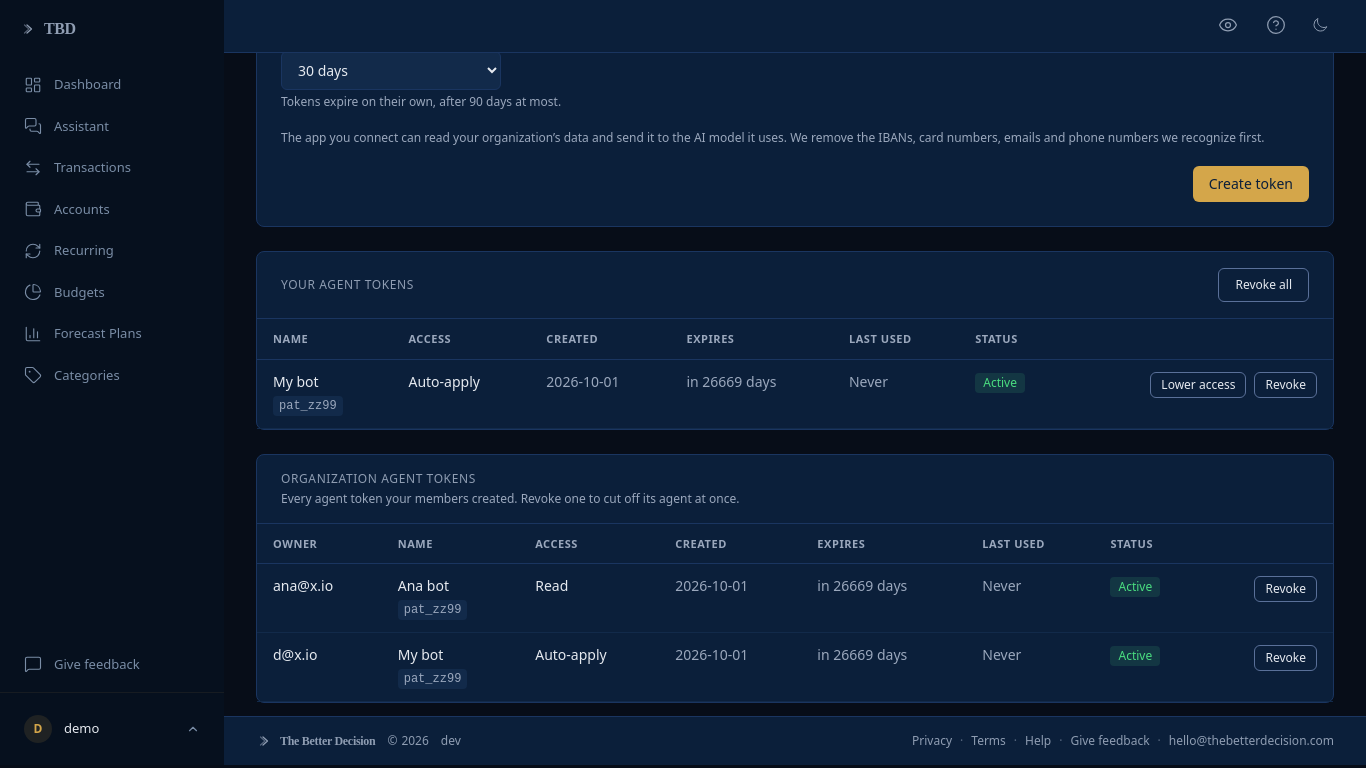
Test: org agent tokens › F-619-STALE-A: revoking my own token in 'Your agent tokens' updates the org row
(page scrolled)
Expected: the row with test id "agent-token-5" that starts with "d@x.io" is shown, [257,633,1333,702]
Click the button with aria-label "Revoke My bot" at (1286, 385), box [1254,372,1317,398]
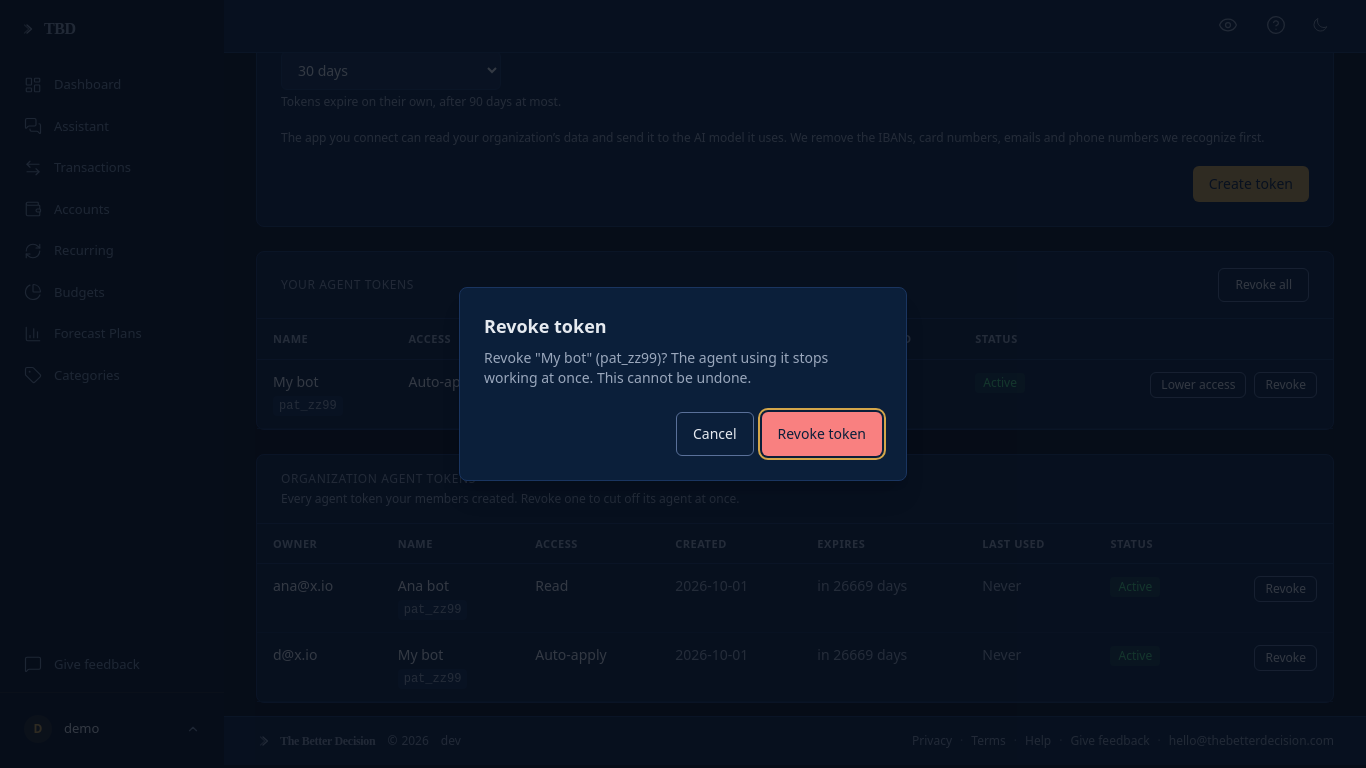
Click the button "Revoke token" at (822, 434), box [762,412,882,456]
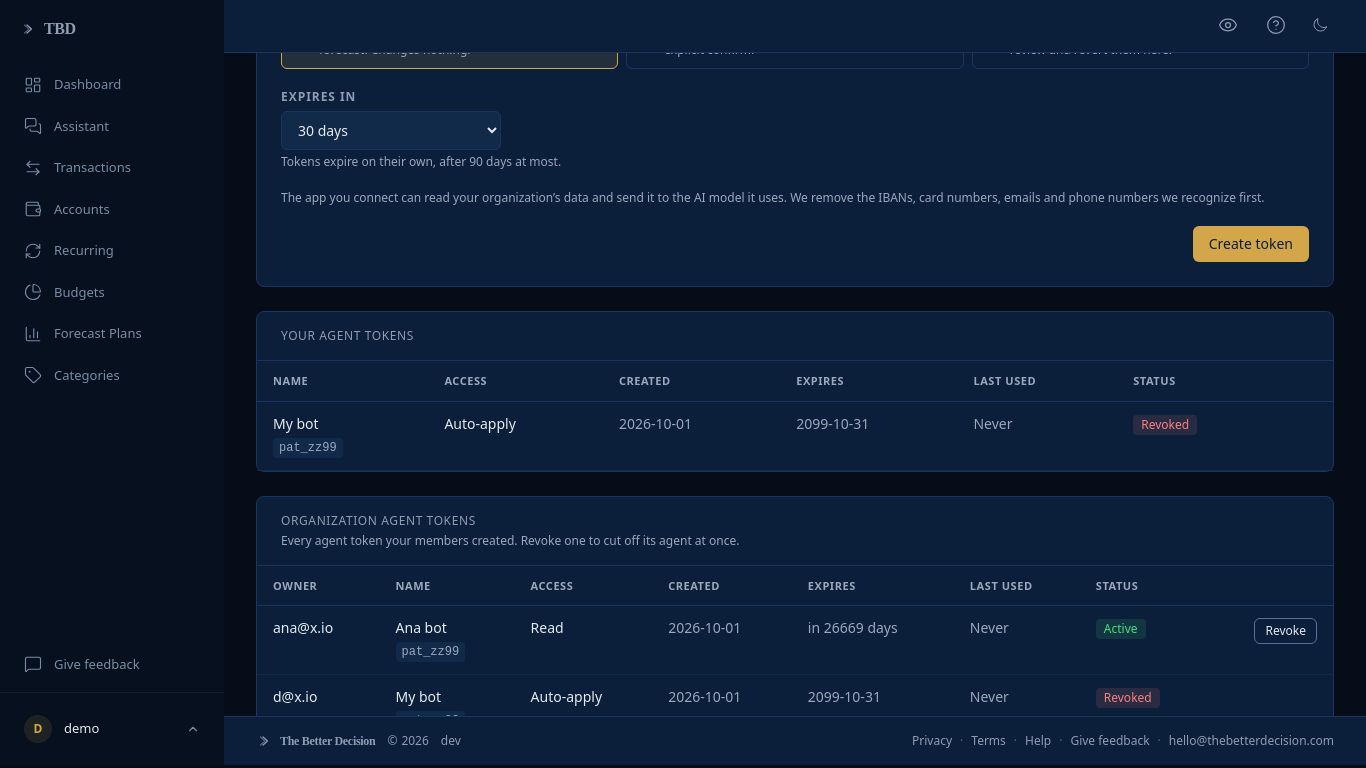
Now the text "Revoked" in the row of "d@x.io" is shown, box [1104,689,1152,706]
